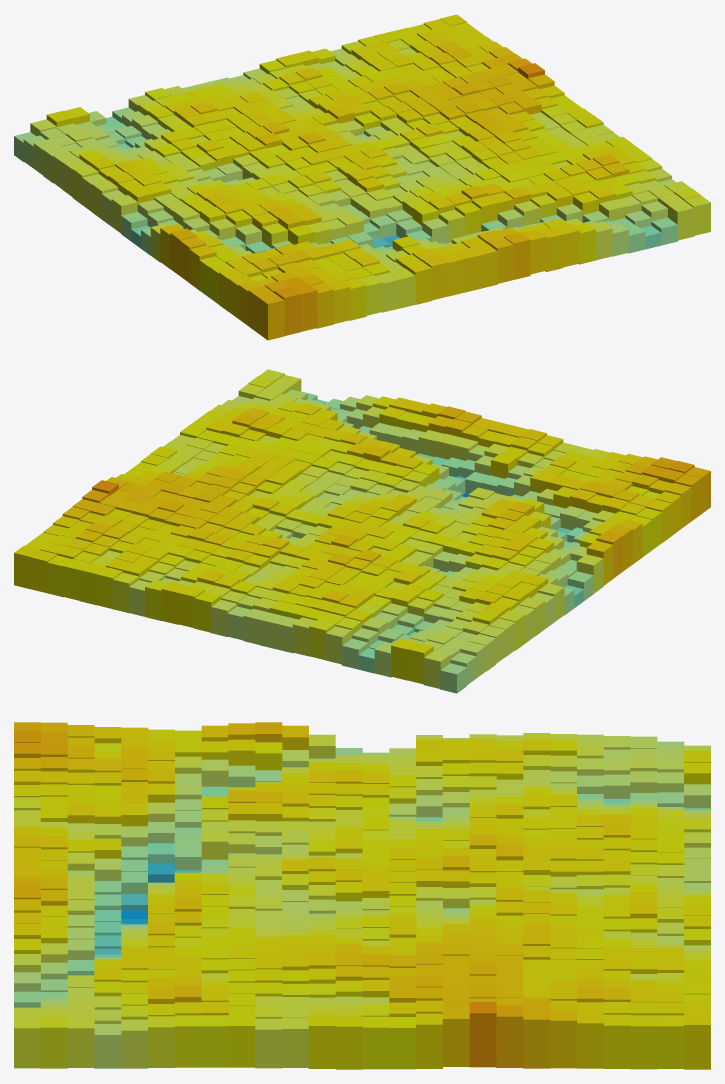
The model's file is population.glb.
3 views of the same model, one above another, from view 1: azimuth 30°, elevation 25°; view 2: azimuth 150°, elevation 25°; view 3: azimuth 270°, elevation 25° (orthographic). The views are drawn at different scales.
Parts seen in each view (by area): view 1: population; view 2: population; view 3: population.
Boxes of the visible parts, x1,y1,x2,y2 form: population: (14, 14, 710, 340); population: (14, 369, 710, 693); population: (14, 722, 710, 1069).
Bounding box in the file's own units: 2604 × 234 × 2585.
